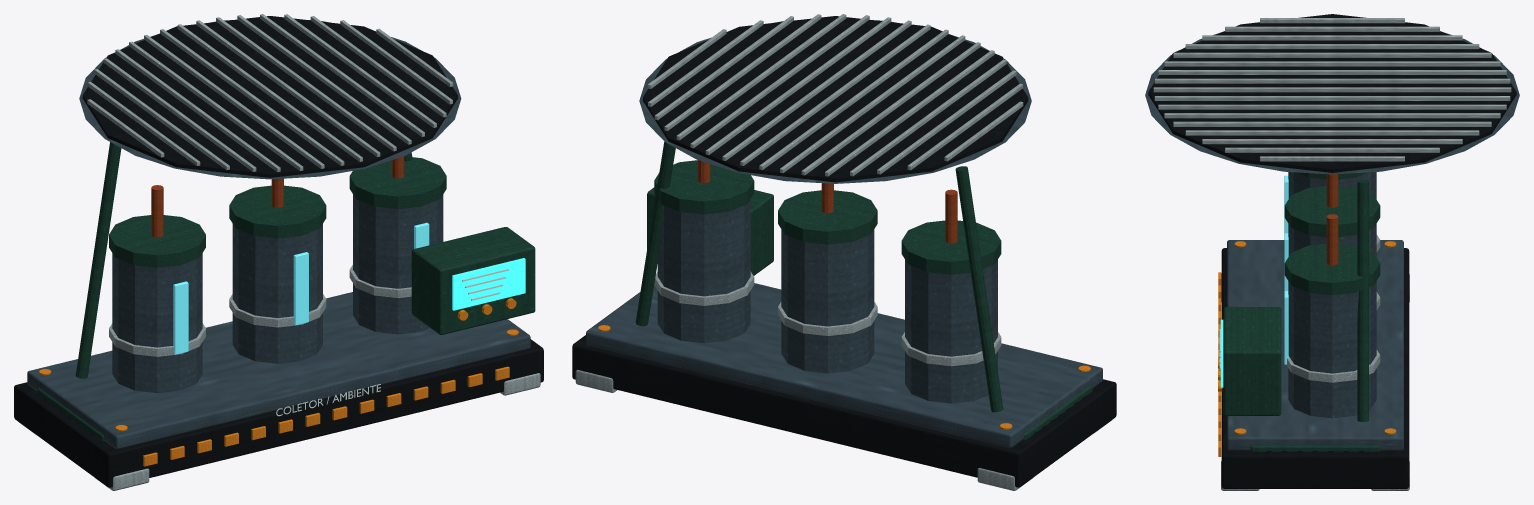
File: coletor-climatico.glb
3 views of the same model, side by side, from view 1: azimuth 30°, elevation 25°; view 2: azimuth 150°, elevation 25°; view 3: azimuth 270°, elevation 25° (orthographic). The views are drawn at different scales.
Visible parts, largest first — view 1: Deck aparafusado.001, Chassi reforçado.001, Painel de inspeção lateral.002, Sapata de nivelamento.004, Parafuso de ancoragem.004, Indicador de nível.003, Tela de diagnóstico.001, Cano de drenagem.003, COLETOR / AMBIENTE.001; view 2: Deck aparafusado.001, Chassi reforçado.001, Sapata de nivelamento.004, Painel de inspeção lateral.002, Cano de drenagem.003; view 3: Chassi reforçado.001, Sapata de nivelamento.004, Deck aparafusado.001, Painel de inspeção lateral.002, Cano de drenagem.003, Parafuso de ancoragem.004, Indicador de nível.003.
Part boxes in pixels (x1=…): Deck aparafusado.001: x1=27, y1=20, x2=530, y2=449; Chassi reforçado.001: x1=14, y1=16, x2=543, y2=487; Painel de inspeção lateral.002: x1=37, y1=142, x2=535, y2=441; Sapata de nivelamento.004: x1=19, y1=14, x2=540, y2=490; Parafuso de ancoragem.004: x1=39, y1=298, x2=518, y2=466; Indicador de nível.003: x1=173, y1=222, x2=429, y2=354; Tela de diagnóstico.001: x1=452, y1=258, x2=525, y2=310; Cano de drenagem.003: x1=151, y1=156, x2=404, y2=237; COLETOR / AMBIENTE.001: x1=276, y1=268, x2=508, y2=416; Deck aparafusado.001: x1=586, y1=20, x2=1102, y2=447; Chassi reforçado.001: x1=572, y1=16, x2=1116, y2=487; Sapata de nivelamento.004: x1=575, y1=14, x2=1111, y2=490; Painel de inspeção lateral.002: x1=635, y1=141, x2=1092, y2=439; Cano de drenagem.003: x1=698, y1=160, x2=957, y2=243; Chassi reforçado.001: x1=1148, y1=14, x2=1516, y2=488; Sapata de nivelamento.004: x1=1153, y1=18, x2=1511, y2=490; Deck aparafusado.001: x1=1145, y1=32, x2=1519, y2=450; Painel de inspeção lateral.002: x1=1223, y1=172, x2=1380, y2=451; Cano de drenagem.003: x1=1326, y1=174, x2=1338, y2=265; Parafuso de ancoragem.004: x1=1218, y1=241, x2=1396, y2=456; Indicador de nível.003: x1=1284, y1=175, x2=1288, y2=364.
Size of the model in its own units: 2.9 by 1.95 by 2.2.
Materials: 9 (6 with a texture image).
